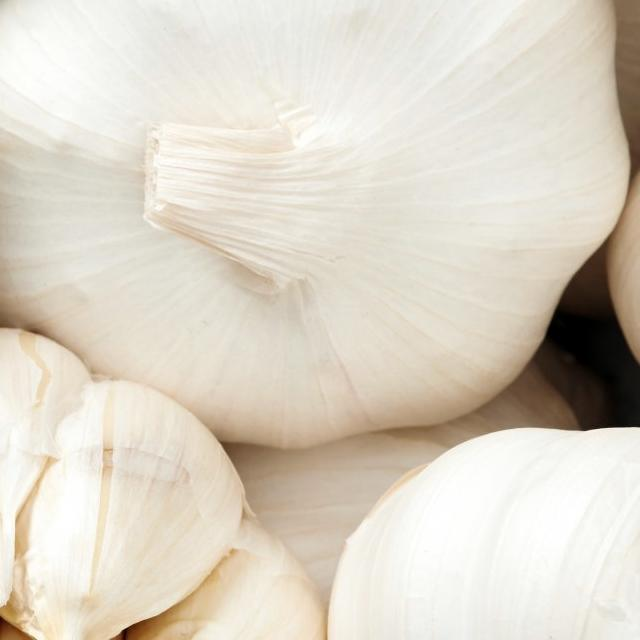garlic: (0, 0, 620, 403), (0, 364, 319, 640)
